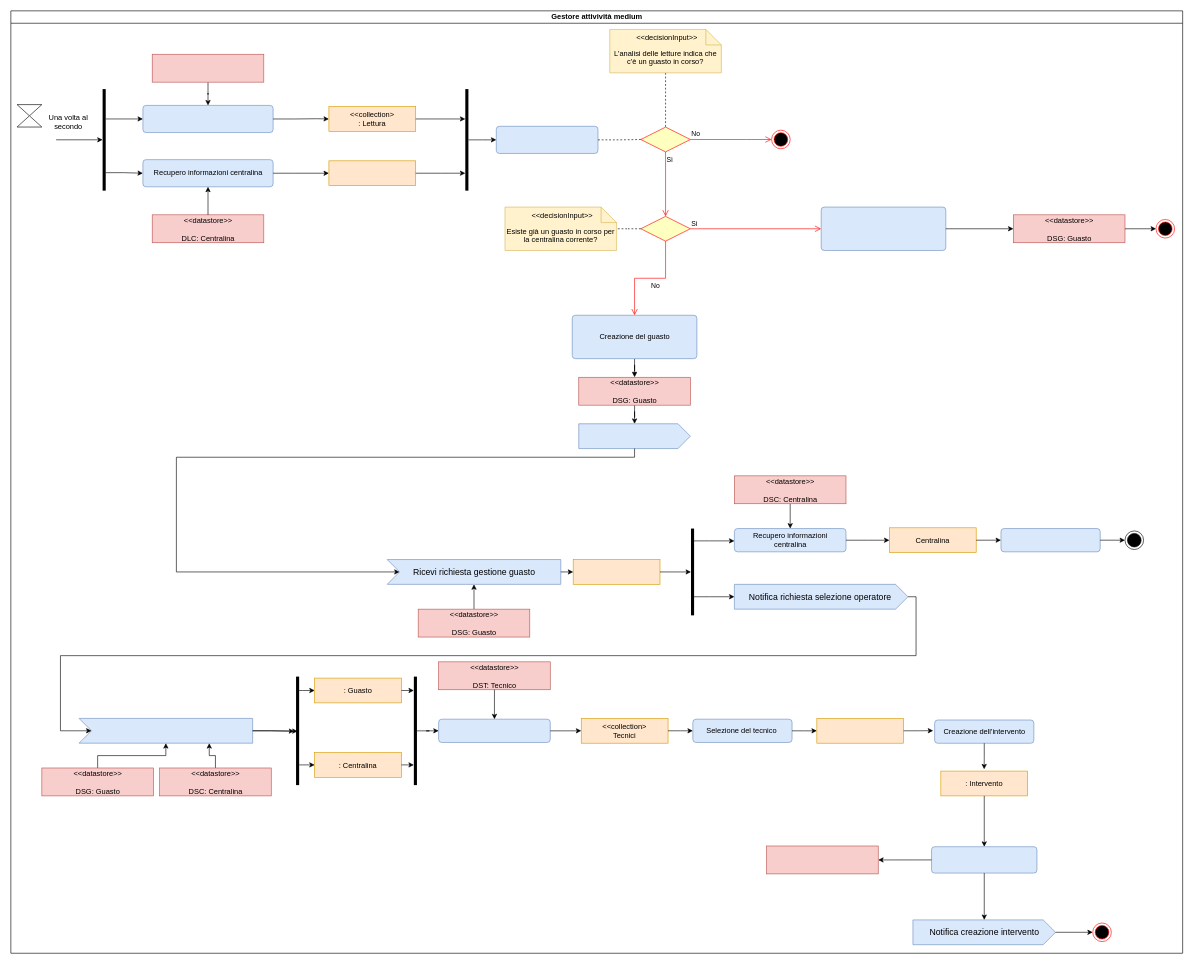
Some shapes in this 1194 by 964 pixel diagram are drawn without their labels. The shapes that lost their labels are listed below. From the top down, each one's centre as x and y in pixels, then its label:
At (208,68): "<<datastore>> DSLC: Lettura".
At (207,119): "Recupero letture".
At (547,139): "Analisi delle letture".
At (372,173): ":Centralina".
At (883,228): "Aggiornamento del guasto con le ultime letture".
At (634,436): "Gestione del guasto".
At (1050,540): "Disattivazione centralina".
At (616,571): "Guasto".
At (165,730): "Ricevi richiesta selezione tecnico".
At (494,730): "Recupero informazioni tecnici".
At (860,730): ": Tecnico".
At (822,859): "<<datastore>> DSI: Intervento".
At (984,859): "Salvataggio dell'intervento".
